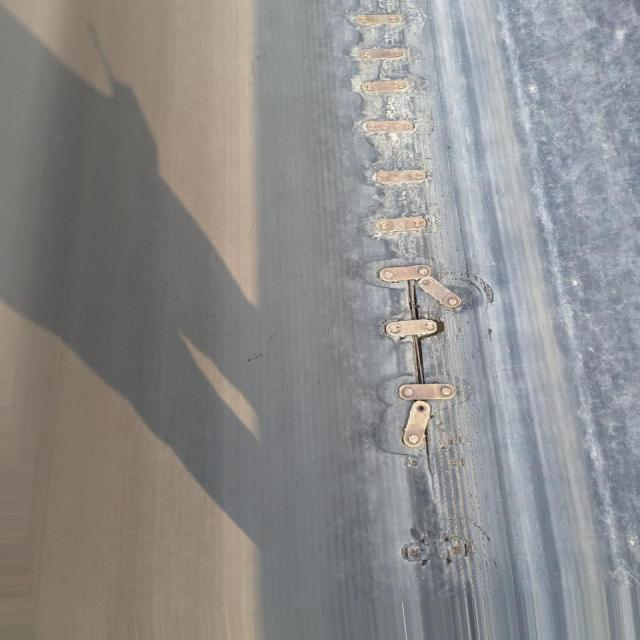patch work: (339, 5, 521, 595)
